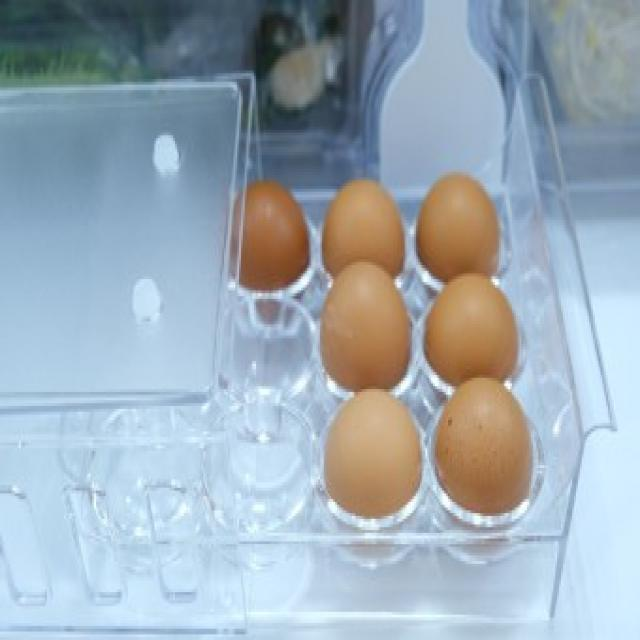eggs: (428, 377, 532, 514), (322, 389, 426, 521), (313, 265, 415, 394), (422, 270, 524, 387), (416, 166, 503, 286), (321, 177, 406, 285), (233, 182, 313, 294)
